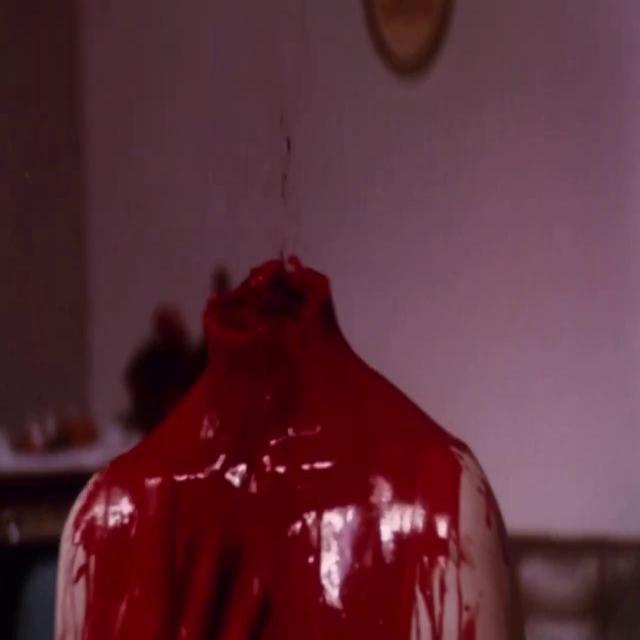flood: (198, 259, 374, 610)
